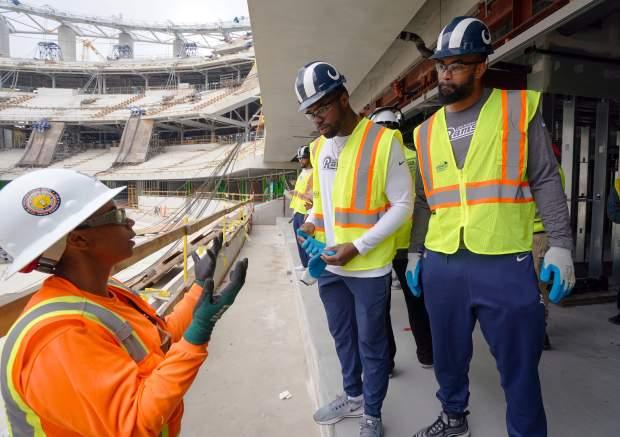helmet: (2, 163, 130, 282), (429, 16, 495, 67), (295, 60, 348, 114)
